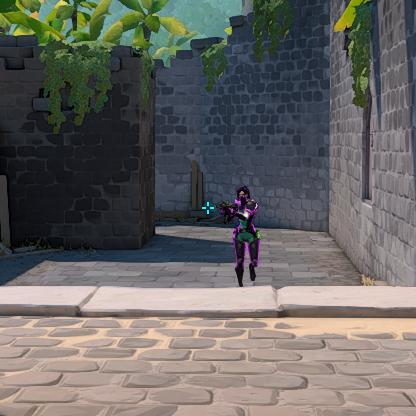enemyBody: (238, 205, 250, 228)
enemyHead: (239, 189, 247, 200)
